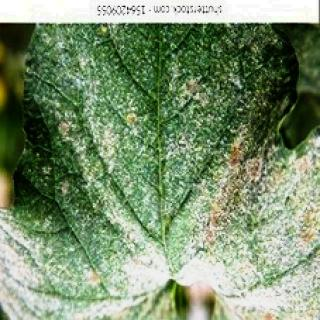grey mildew: (19, 38, 320, 315)
